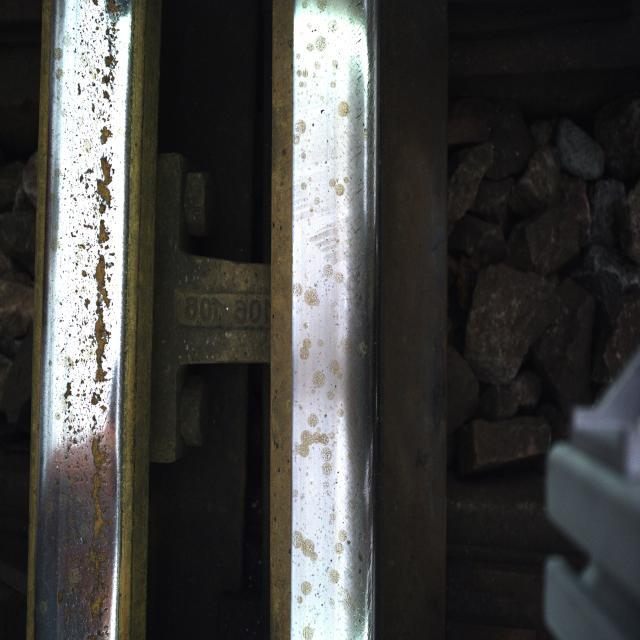scar: (66, 6, 124, 636), (292, 2, 353, 498)
